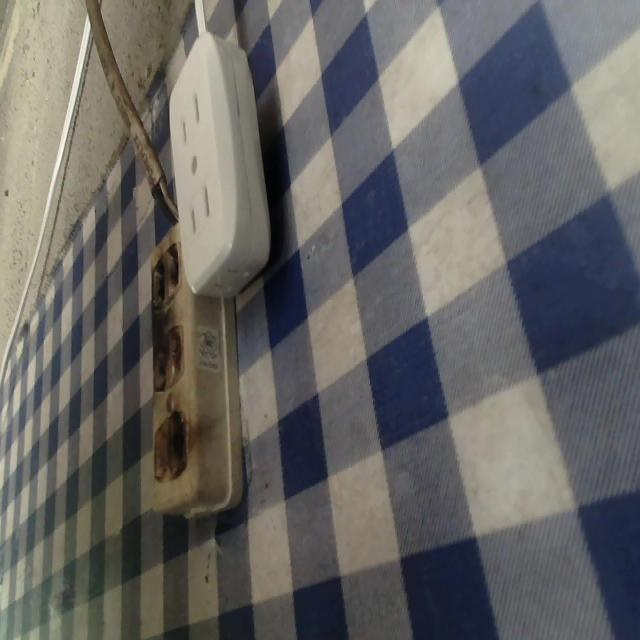-: (142, 412, 191, 481), (146, 324, 191, 388), (148, 244, 181, 304)
